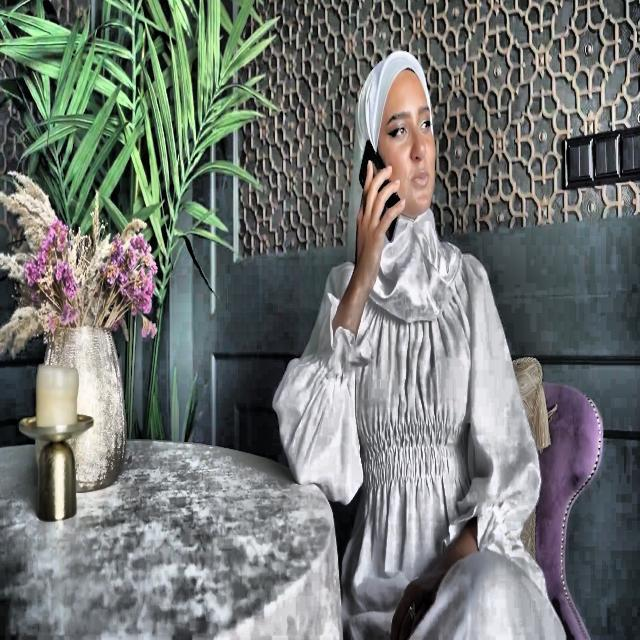Phone: (358, 137, 402, 244)
